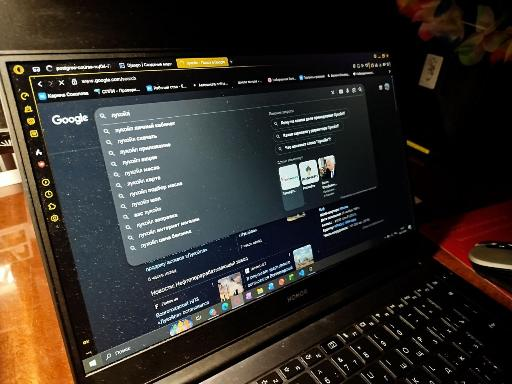google: (30, 86, 398, 319)
